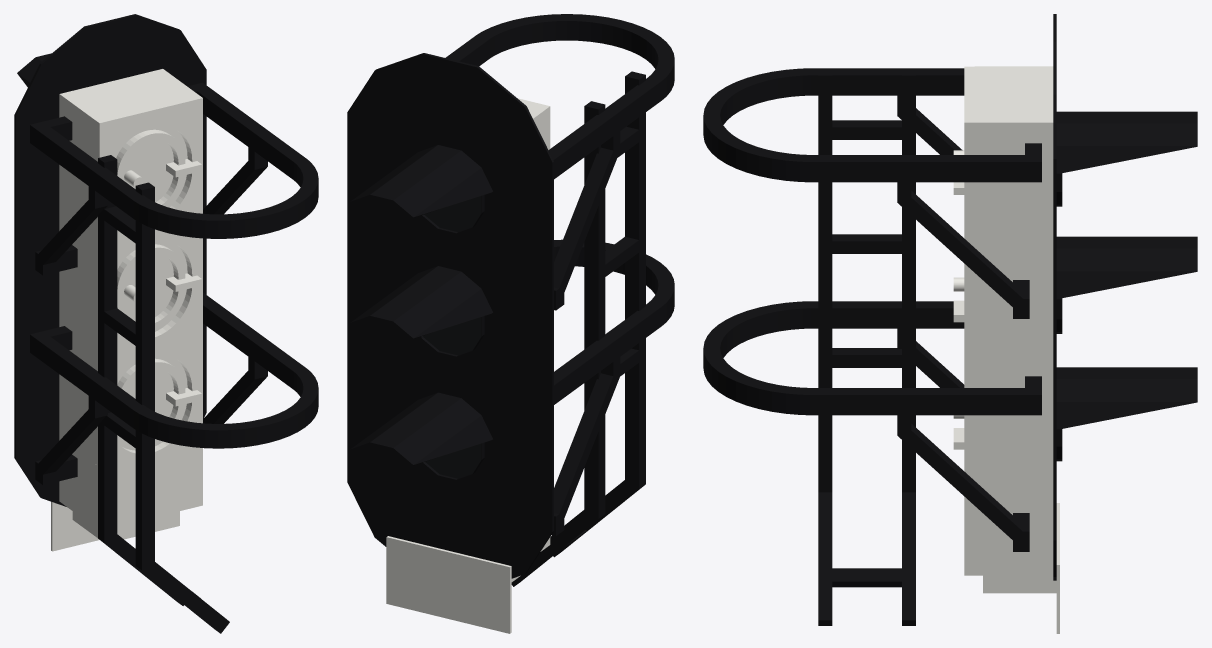
The model's file is 3chamber_right.obj.
3 views of the same model, side by side, from view 1: azimuth 30°, elevation 25°; view 2: azimuth 150°, elevation 25°; view 3: azimuth 270°, elevation 25° (orthographic). The views are drawn at different scales.
Parts seen in each view (by area): view 1: signal_head, railing, signal_plate, ladder_top, ladder_middle, signal_id; view 2: signal_plate, railing, ladder_top, signal_id, ladder_middle, red, green, white, signal_head; view 3: railing, signal_head, signal_plate, ladder_top, ladder_middle.
Part boxes in pixels (left/top/right/bottom): signal_head: left=59, top=69, right=202, bottom=539; railing: left=30, top=82, right=318, bottom=484; signal_plate: left=14, top=14, right=206, bottom=506; ladder_top: left=98, top=155, right=154, bottom=570; ladder_middle: left=101, top=531, right=229, bottom=633; signal_id: left=51, top=501, right=99, bottom=551; signal_plate: left=347, top=53, right=553, bottom=578; railing: left=445, top=14, right=674, bottom=535; ladder_top: left=584, top=71, right=645, bottom=518; signal_id: left=386, top=536, right=511, bottom=633; ladder_middle: left=511, top=476, right=643, bottom=586; red: left=423, top=317, right=481, bottom=355; green: left=424, top=196, right=481, bottom=231; white: left=425, top=443, right=481, bottom=478; signal_head: left=511, top=98, right=550, bottom=581; railing: left=703, top=68, right=1041, bottom=551; signal_head: left=953, top=66, right=1056, bottom=593; signal_plate: left=1053, top=14, right=1197, bottom=580; ladder_top: left=818, top=68, right=915, bottom=492; ladder_middle: left=818, top=492, right=915, bottom=625.
Size of the model in its own units: 0.61 by 1.64 by 1.23.
